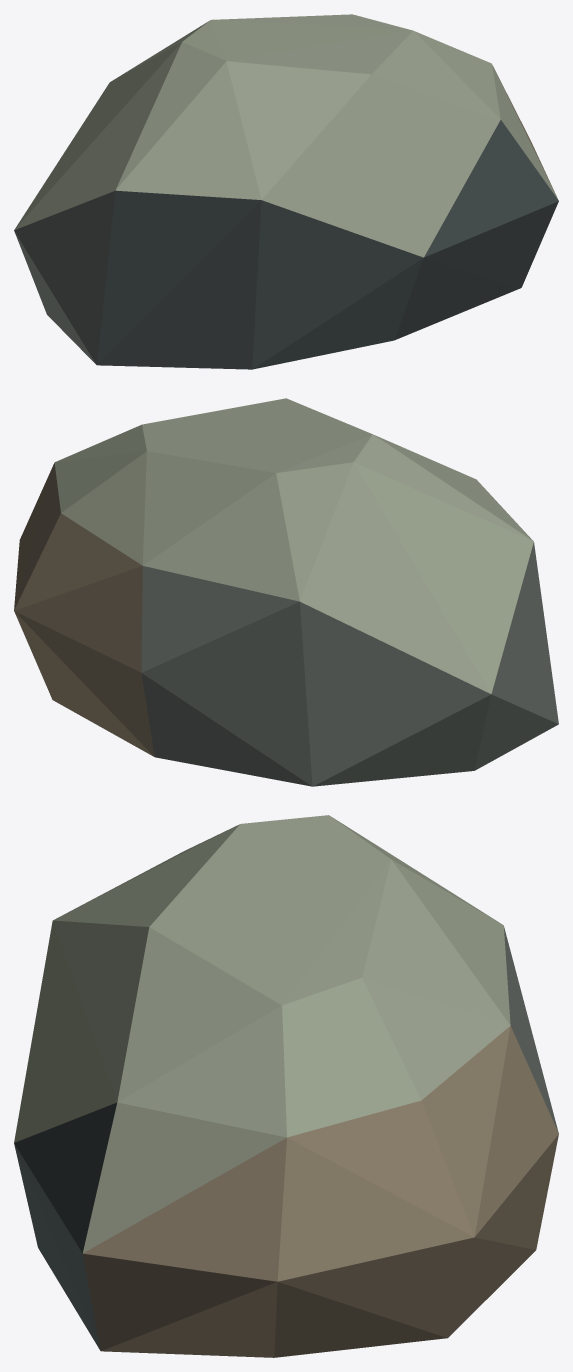
The model's file is TW_ROCK_LOW_WEDGE_A_LOD1.glb.
The picture shows the model from 3 angles, top to bottom: view 1: azimuth 30°, elevation 25°; view 2: azimuth 150°, elevation 25°; view 3: azimuth 270°, elevation 25°; orthographic projection. The views are drawn at different scales.
Parts seen in each view (by area): view 1: TW_ROCK_LOW_WEDGE_A_LOD1; view 2: TW_ROCK_LOW_WEDGE_A_LOD1; view 3: TW_ROCK_LOW_WEDGE_A_LOD1.
Boxes of the visible parts, bbox=[...] form: TW_ROCK_LOW_WEDGE_A_LOD1: bbox=[14, 14, 558, 369]; TW_ROCK_LOW_WEDGE_A_LOD1: bbox=[14, 398, 558, 786]; TW_ROCK_LOW_WEDGE_A_LOD1: bbox=[14, 815, 558, 1357].
Size of the model in its own units: 1.3 by 0.65 by 0.9.
1 material, 1 textured.
